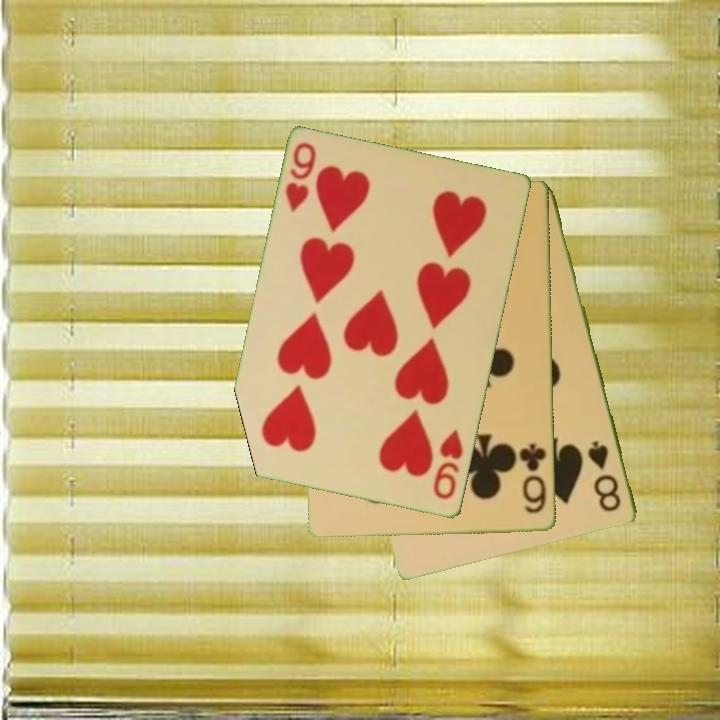6c: (516, 440, 550, 517)
8s: (584, 437, 624, 515)
9h: (282, 139, 320, 217), (430, 427, 467, 503)
